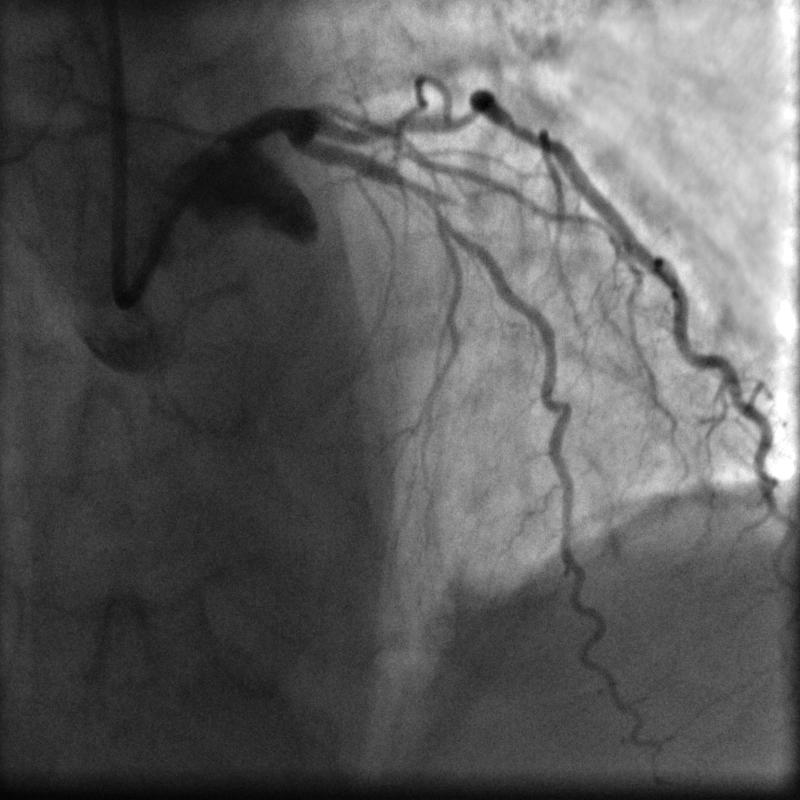Stenosis: (394, 170, 442, 225)
